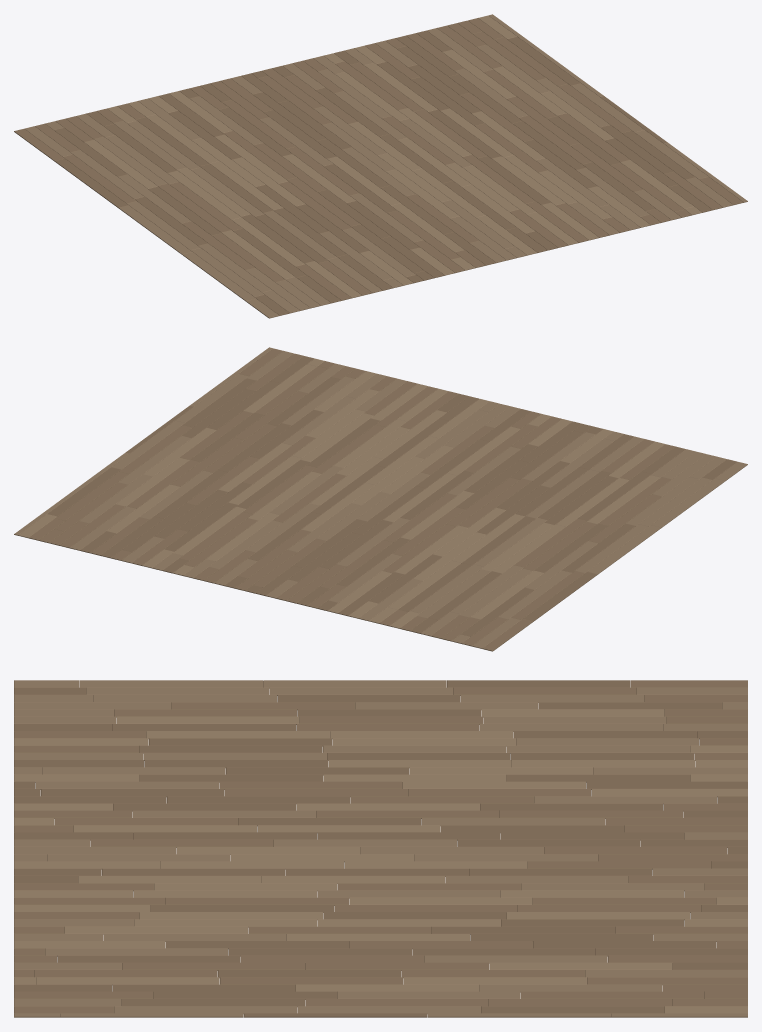
Rendered from floor.glb.
The picture shows the model from 3 angles, top to bottom: view 1: azimuth 30°, elevation 25°; view 2: azimuth 150°, elevation 25°; view 3: azimuth 270°, elevation 25°; orthographic projection. The views are drawn at different scales.
Parts seen in each view (by area): view 1: floor_oak_4, floor_oak_2, floor_oak_1, floor_oak_3; view 2: floor_oak_4, floor_oak_2, floor_oak_1, floor_oak_3; view 3: floor_oak_4, floor_oak_2, floor_oak_1, floor_oak_3.
Part boxes in pixels (x1,y1,x2,y2): floor_oak_4: [54, 30, 712, 315]; floor_oak_2: [14, 18, 743, 300]; floor_oak_1: [24, 14, 747, 318]; floor_oak_3: [84, 15, 702, 298]; floor_oak_4: [48, 356, 737, 636]; floor_oak_2: [29, 348, 675, 651]; floor_oak_1: [14, 347, 747, 648]; floor_oak_3: [18, 358, 664, 628]; floor_oak_4: [14, 680, 747, 1017]; floor_oak_2: [14, 680, 747, 1013]; floor_oak_1: [14, 680, 747, 1017]; floor_oak_3: [14, 709, 747, 1013].
Size of the model in its own units: 6.5 by 0.01 by 6.
